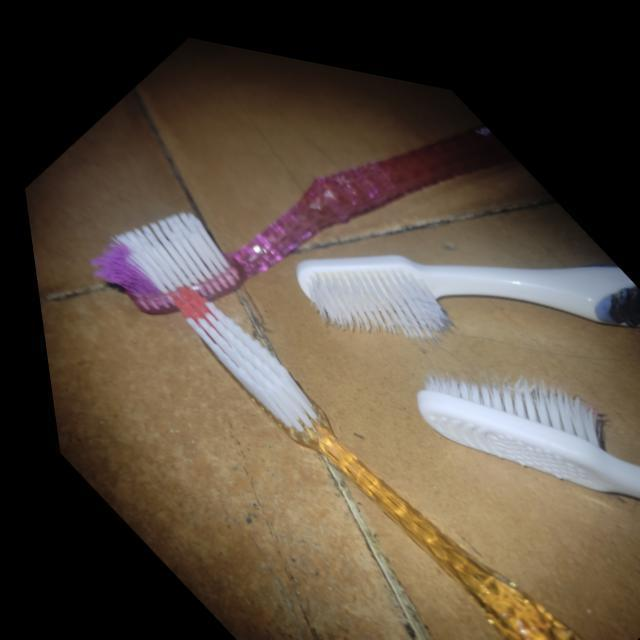toothbrush: (150, 265, 602, 640), (76, 96, 531, 324), (396, 337, 640, 493), (276, 234, 640, 329)
